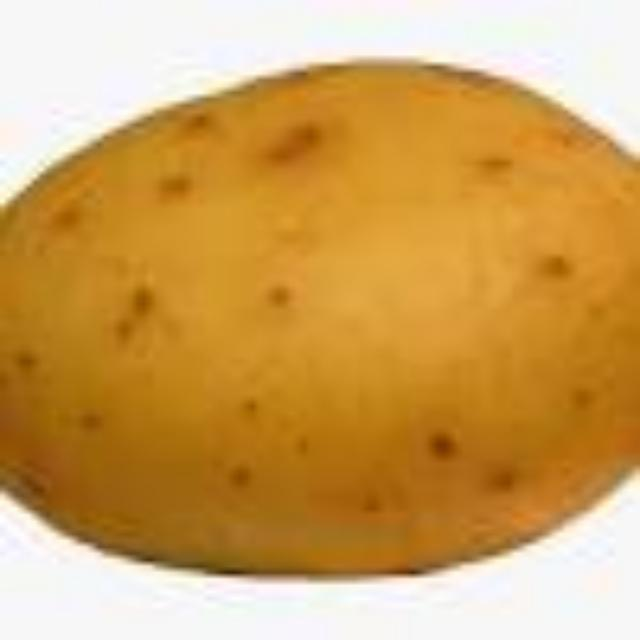Diseased-fungal potato: (32, 64, 634, 564)
